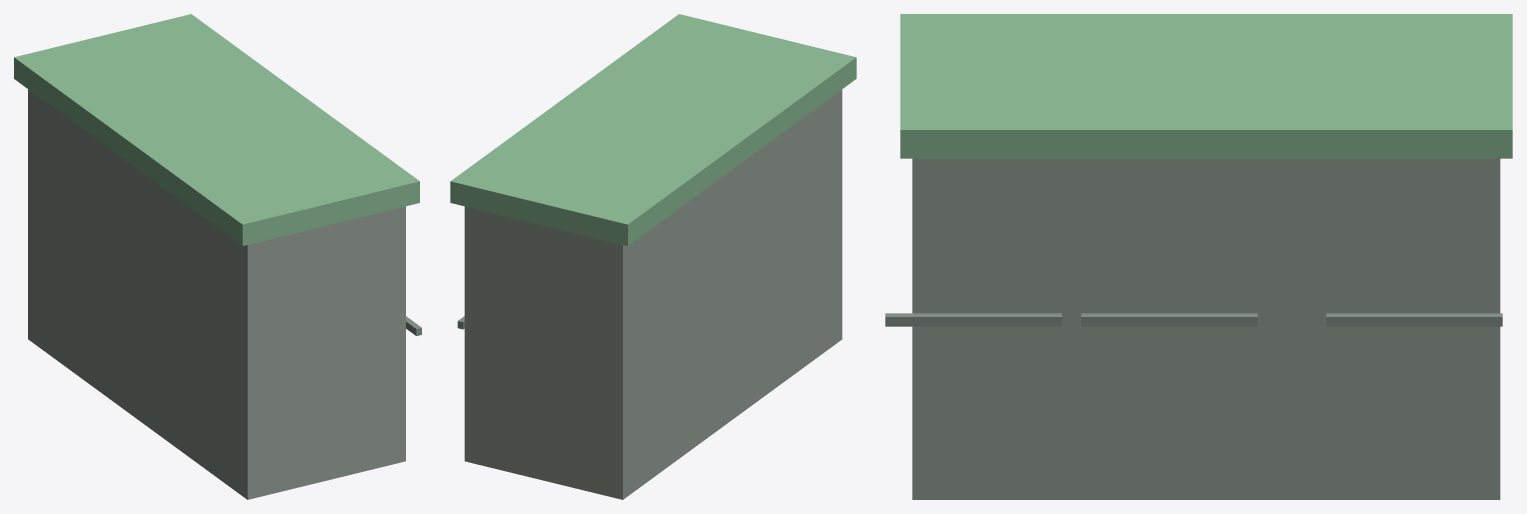
Rendered from muro_lateral.glb.
The picture shows the model from 3 angles, left to right: view 1: azimuth 30°, elevation 25°; view 2: azimuth 150°, elevation 25°; view 3: azimuth 270°, elevation 25°; orthographic projection. The views are drawn at different scales.
Parts seen in each view (by area): view 1: muro_lateral; view 2: muro_lateral; view 3: muro_lateral.
Boxes of the visible parts, left/top/right/bottom form: muro_lateral: left=14, top=14, right=421, bottom=499; muro_lateral: left=450, top=14, right=856, bottom=499; muro_lateral: left=885, top=14, right=1512, bottom=499.
Size of the model in its own units: 1.12 by 1.7 by 2.56.
